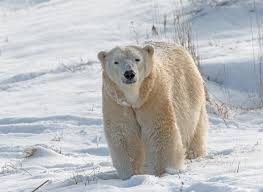PolarBear: (83, 34, 211, 179)
